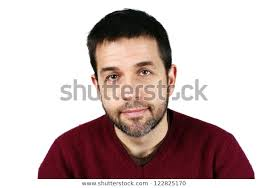white_male: (88, 47, 176, 140)
